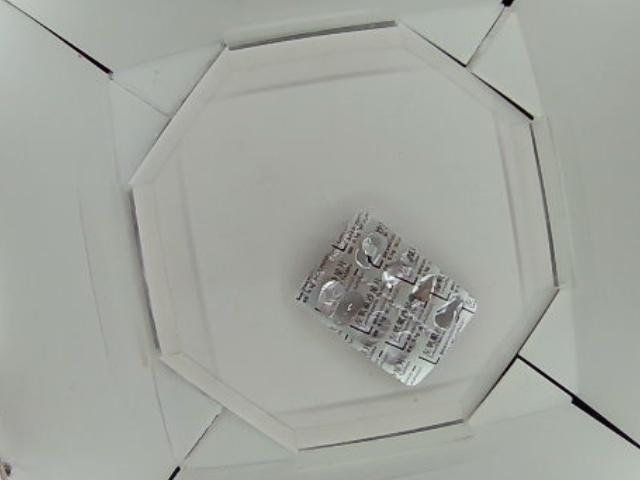Medicine: (295, 211, 476, 386)
